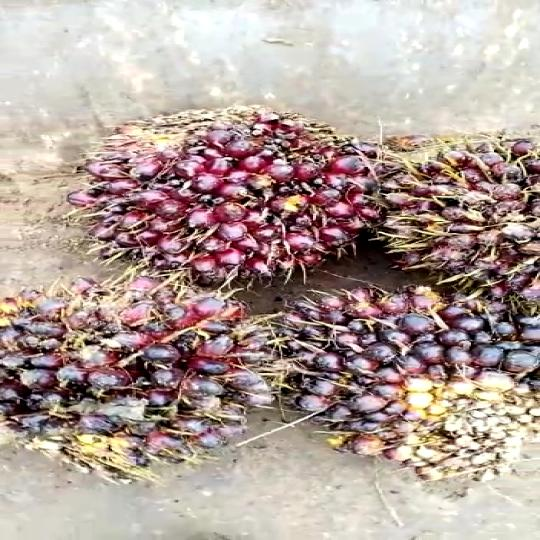kurang masak: (238, 286, 540, 509), (0, 266, 275, 495), (81, 100, 362, 285), (364, 118, 540, 321)
